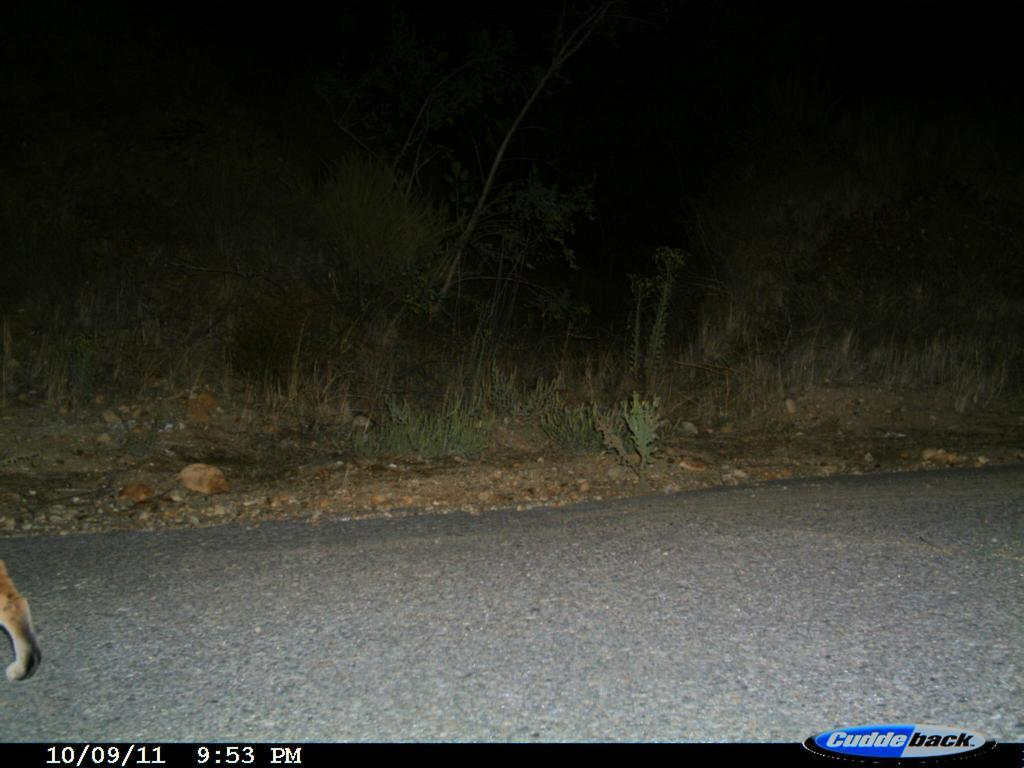bobcat: (1, 548, 49, 685)
